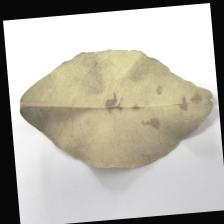canker: (98, 81, 206, 135)
